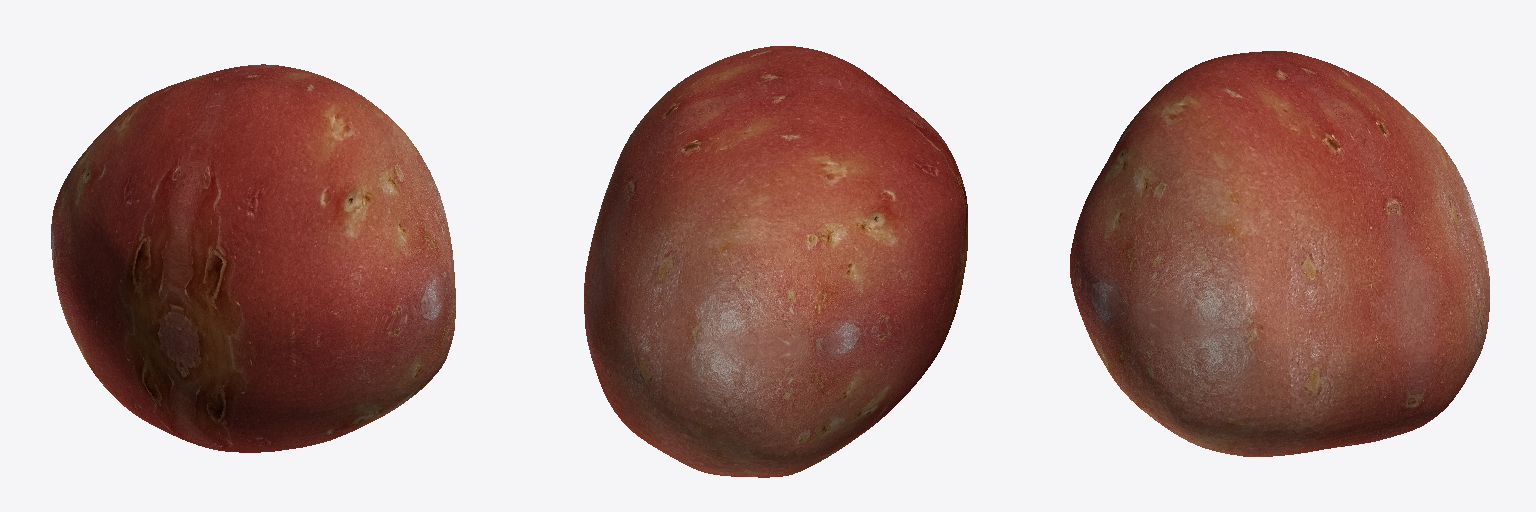
3 renders of one model, left to right at view 1: azimuth 30°, elevation 25°; view 2: azimuth 150°, elevation 25°; view 3: azimuth 270°, elevation 25°, orthographic.
Visible parts, largest first — view 1: Asteroid; view 2: Asteroid; view 3: Asteroid.
Part boxes in pixels (left/top/right/bottom): Asteroid: left=51, top=64, right=455, bottom=452; Asteroid: left=584, top=46, right=967, bottom=477; Asteroid: left=1070, top=51, right=1489, bottom=456.
Size of the model in its own units: 4.39 by 4.56 by 4.7.
Materials: 1 (1 with a texture image).